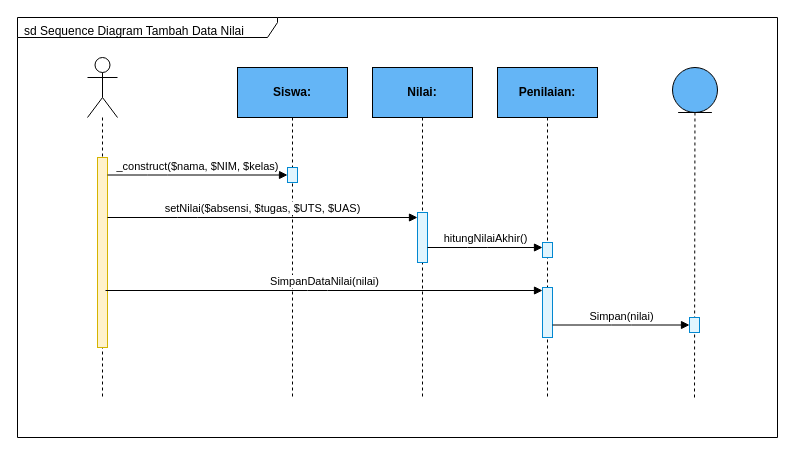
This 795x455 diagram has some shape labels left out. Here are the shapes that lost their labels. From the top down, the centre of each, then its label:
(x=102, y=87): TU / Guru
(x=695, y=89): TablePenilaian
